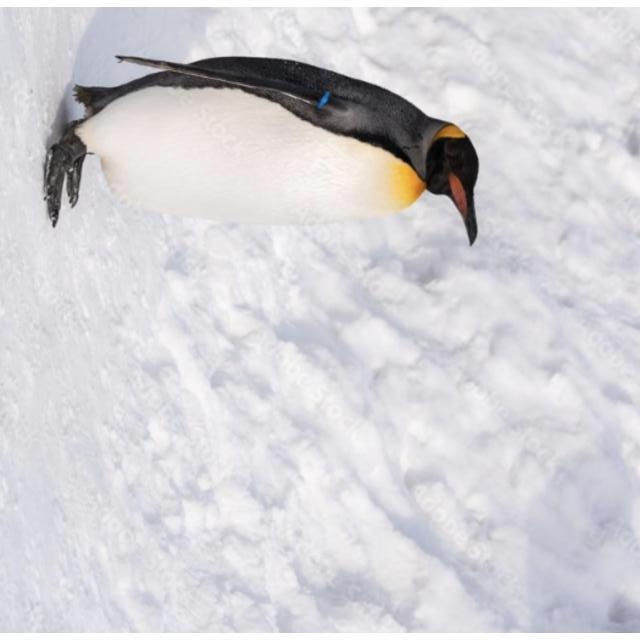penguin: (43, 54, 480, 247)
